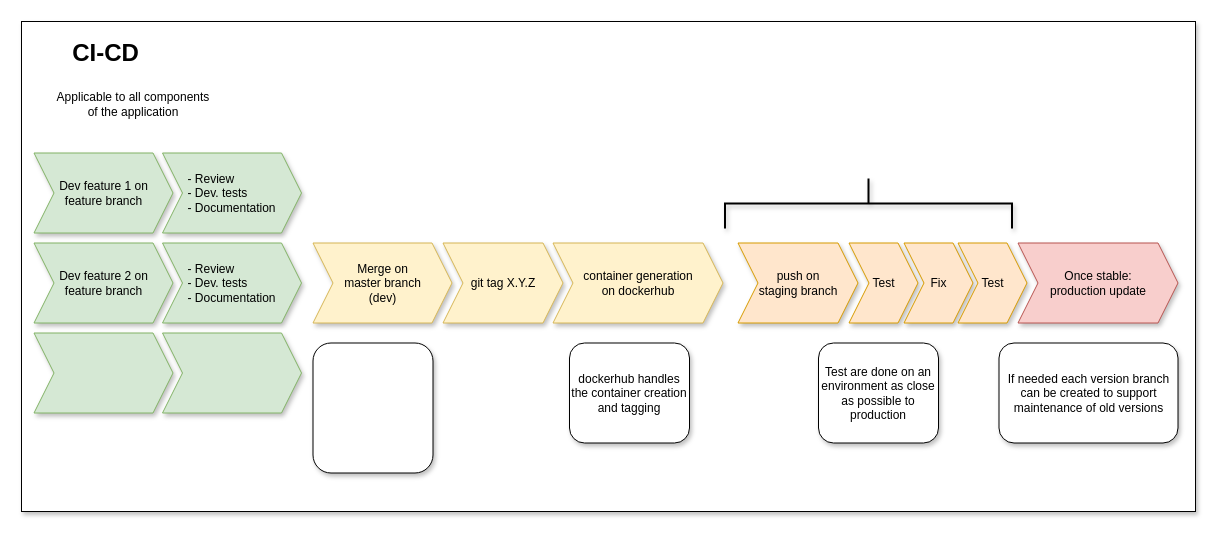
Some shapes in this 1219 by 536 pixel diagram are drawn without their labels. Here are the shapes that lost their labels. From the top down, the centre of each, then its label:
the point at 869,205: Can be simplified on small projects
the point at 373,409: merge impossible without: - test ran - revew validated - security validation
